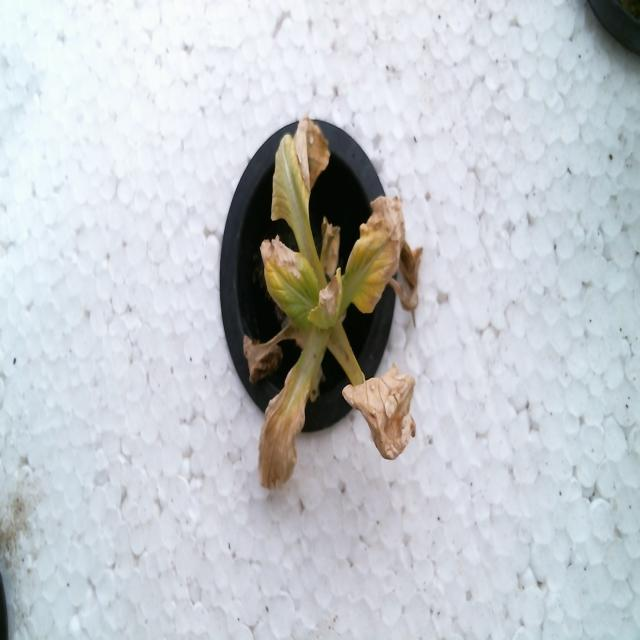pakcoy_tidak_sehat: (217, 99, 443, 518)
